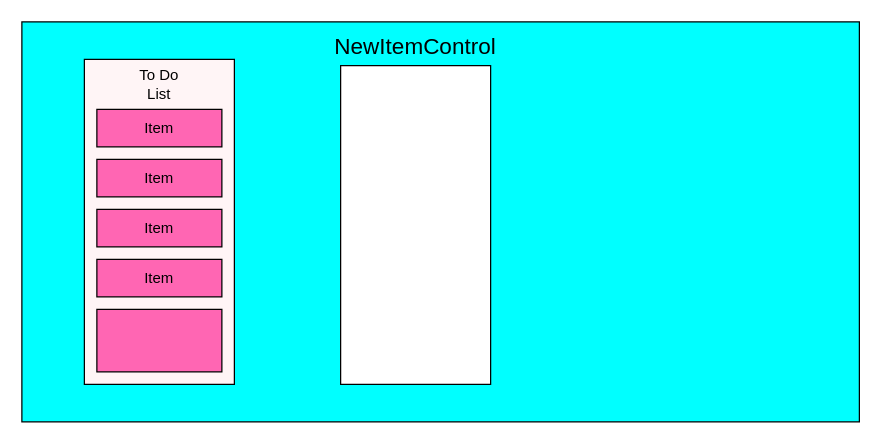
Some shapes in this 881 by 444 pixel diagram are drawn without their labels. Each missing label, with the centre of its shape:
"Add new Item to list will display form" belongs at point (159, 340).
"New Keg form" belongs at point (415, 224).
